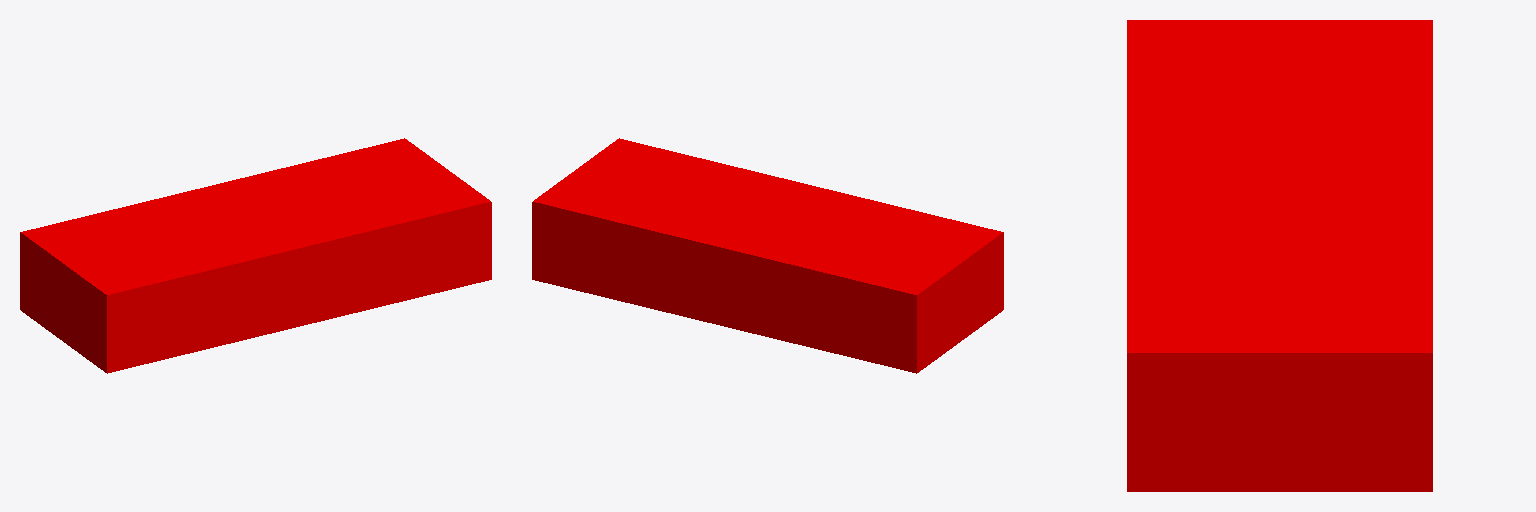
robot.urdf — slate.urdf:
<?xml version="0.0" ?>
<robot name="slate.urdf">
  <link name="baseLink">
    <contact>
      <lateral_friction value="1.0"/>
      <inertia_scaling value="3.0"/>
    </contact>
    <inertial>
      <origin rpy="0 0 0" xyz="0 0 0"/>
       <mass value=".15"/>
       <inertia ixx="1" ixy="0" ixz="0" iyy="1" iyz="0" izz="1"/>
    </inertial>
    <visual>
      <origin rpy="0 0 0" xyz="0 0 0"/>
      <geometry>
				<mesh filename="slate.obj" scale=".18 .07 .035"/>
      </geometry>
       <material name="red">
        <color rgba="1 0 0 1"/>
      </material>
    </visual>
    <collision>
      <origin rpy="0 0 0" xyz="0 0 0"/>
      <geometry>
	 	<box size=".18 .07 .035"/>
      </geometry>
    </collision>
  </link>
</robot>

--- Render facts (derived) ---
3 views of the same robot in one strip: view 1: azimuth 30°, elevation 25°; view 2: azimuth 150°, elevation 25°; view 3: azimuth 270°, elevation 25° (orthographic).
Model slate.urdf with 1 links and 0 joints (none), rooted at baseLink, posed all joints at 0.
Visible links, largest first — view 1: baseLink; view 2: baseLink; view 3: baseLink.
Boxes of the visible links, x1,y1,x2,y2 form: baseLink: (20,138,491,373); baseLink: (532,138,1003,373); baseLink: (1127,20,1432,491).
Size in the robot's own frame: 0.18 by 0.07 by 0.035 metres.
1 mesh visuals loaded from 1 distinct referenced files (1 OBJ).